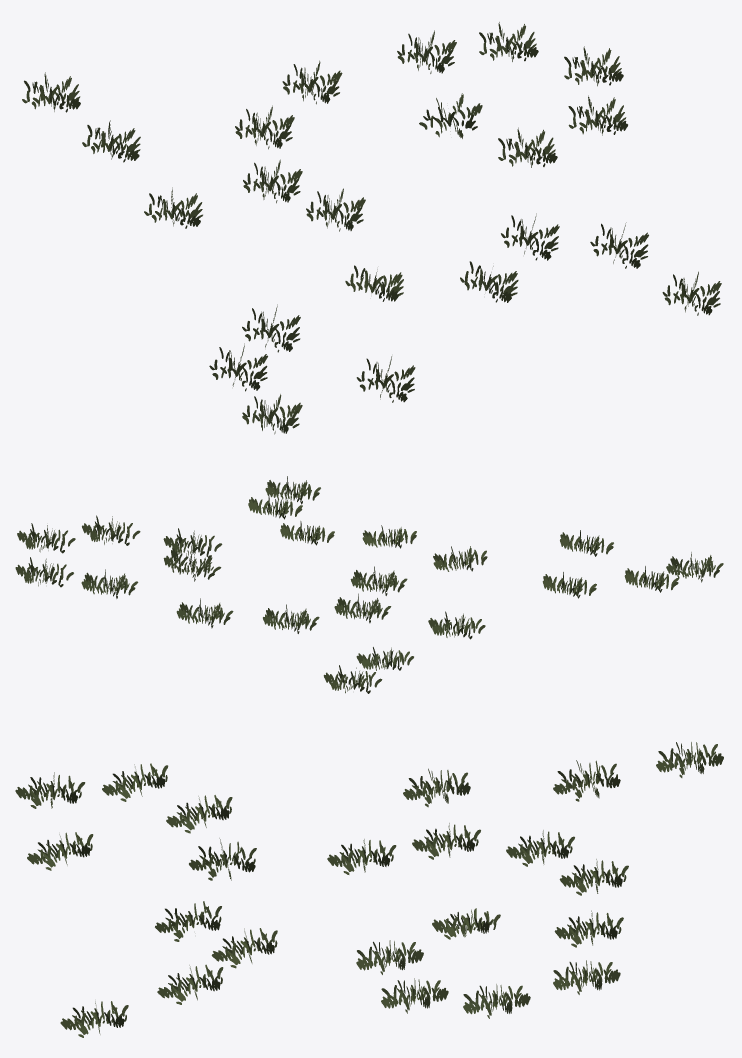
File: Selvas02.fbx
3 renders of one model, top to bottom at view 1: azimuth 30°, elevation 25°; view 2: azimuth 150°, elevation 25°; view 3: azimuth 270°, elevation 25°, orthographic. The views are drawn at different scales.
Visible parts, largest first — view 1: Selvas02; view 2: Selvas02; view 3: Selvas02.
Boxes of the visible parts, x1,y1,x2,y2 form: Selvas02: [22, 22, 721, 434]; Selvas02: [15, 476, 723, 693]; Selvas02: [15, 742, 723, 1037].
Bounding box in the file's own units: 53.81 × 9.39 × 53.73.
